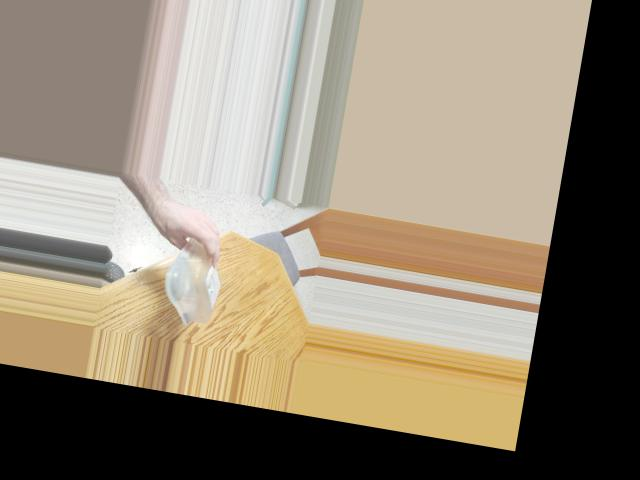cheese: (162, 219, 232, 329)
